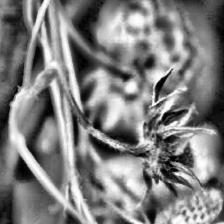Gray Mold: (98, 67, 220, 205)
